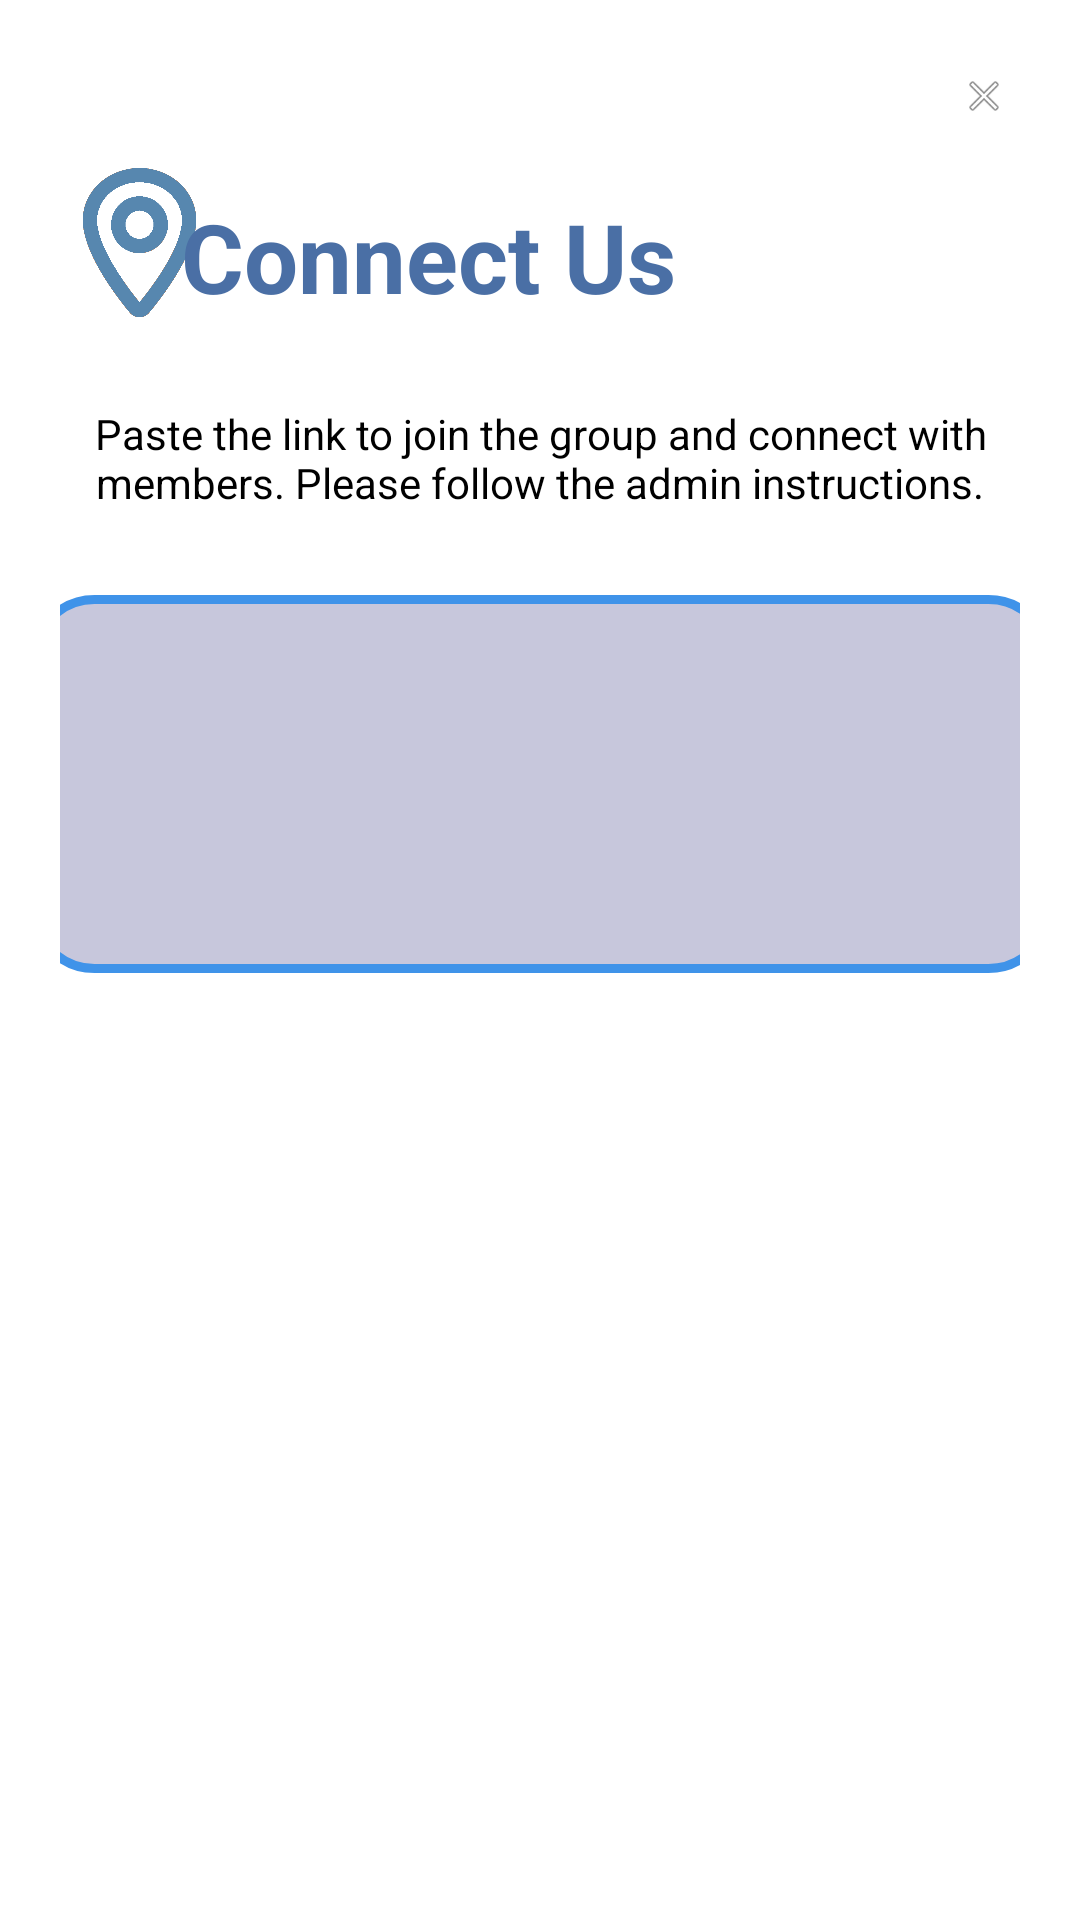

Screen size 1080px×1920px. Icon name, then its box in pixels as (x1, y1, x2, y2):
Close: (969, 81, 999, 111)
